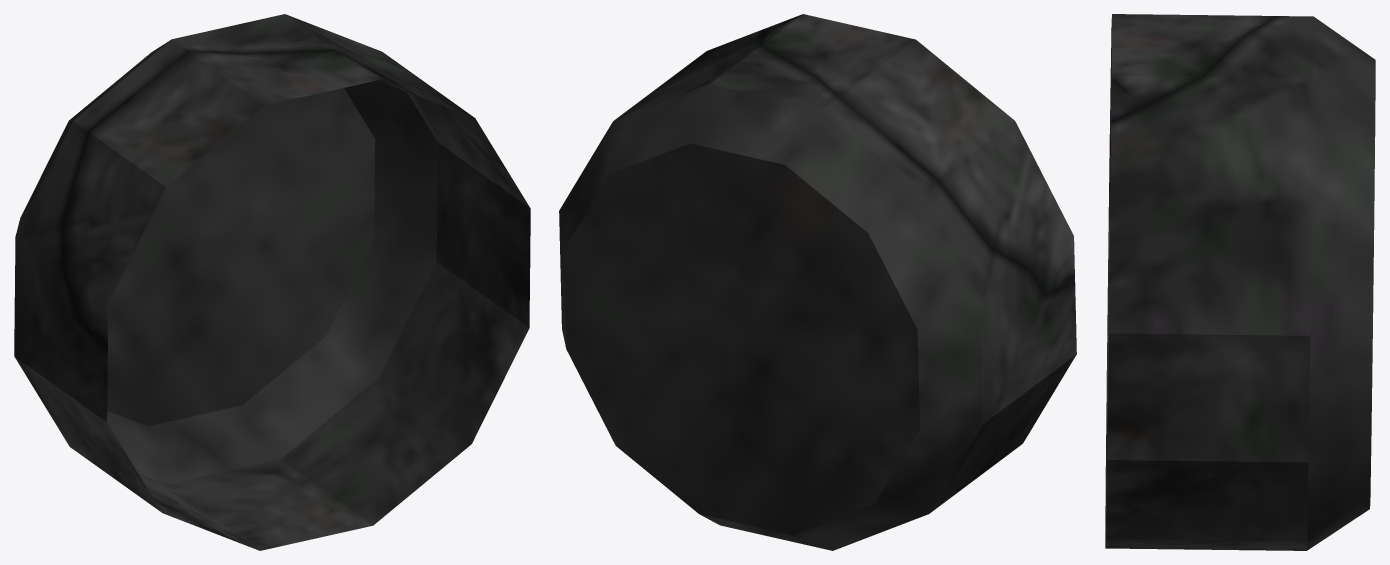
Rendered from Prop_Door_spyhole.fbx.
3 views of the same model, side by side, from view 1: azimuth 30°, elevation 25°; view 2: azimuth 150°, elevation 25°; view 3: azimuth 270°, elevation 25° (orthographic). The views are drawn at different scales.
Parts seen in each view (by area): view 1: Cylinder_020; view 2: Cylinder_020; view 3: Cylinder_020.
Part boxes in pixels (box(x1,y1,x2,y2)): Cylinder_020: box(14, 14, 530, 550); Cylinder_020: box(559, 14, 1076, 550); Cylinder_020: box(1105, 14, 1375, 550).
Size of the model in its own units: 0.2371 by 0.238 by 0.1213.
